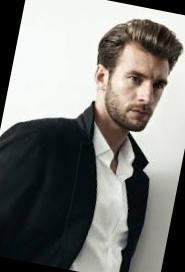Sober: (114, 50, 162, 126)
